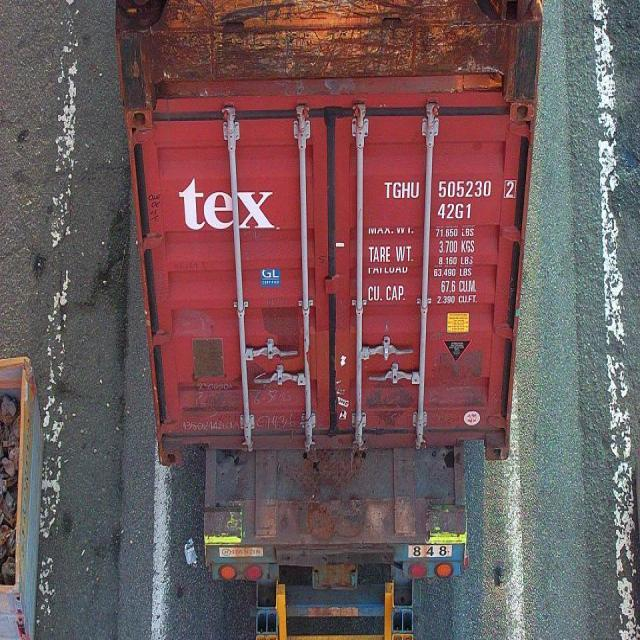ISO: (438, 205, 474, 224)
container_number: (383, 178, 508, 200)
